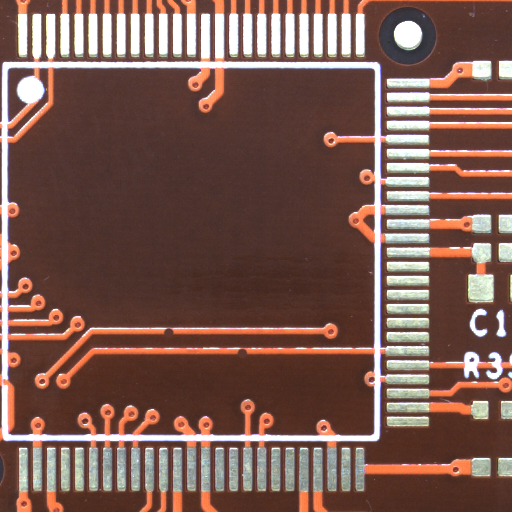Mouse_bite: (241, 351, 258, 363), (167, 332, 183, 343)
